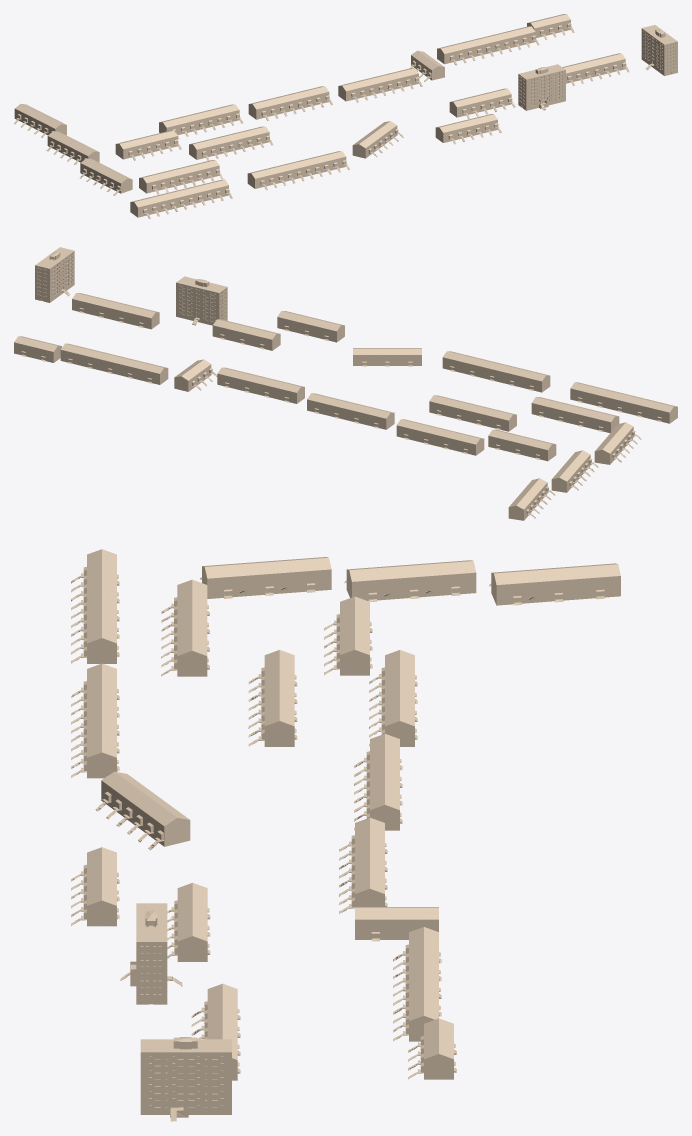
Rendered from mulgravePark_LOD1.fbx.
3 views of the same model, one above another, from view 1: azimuth 30°, elevation 25°; view 2: azimuth 150°, elevation 25°; view 3: azimuth 270°, elevation 25° (orthographic). The views are drawn at different scales.
Parts seen in each view (by area): view 1: Model; view 2: Model; view 3: Model.
Boxes of the visible parts, x1,y1,x2,y2 form: Model: (14, 14, 677, 218); Model: (14, 247, 677, 520); Model: (71, 549, 620, 1121).
Bounding box in the file's own units: 8.52 × 0.5079 × 3.6.
8 materials, 8 textured.
